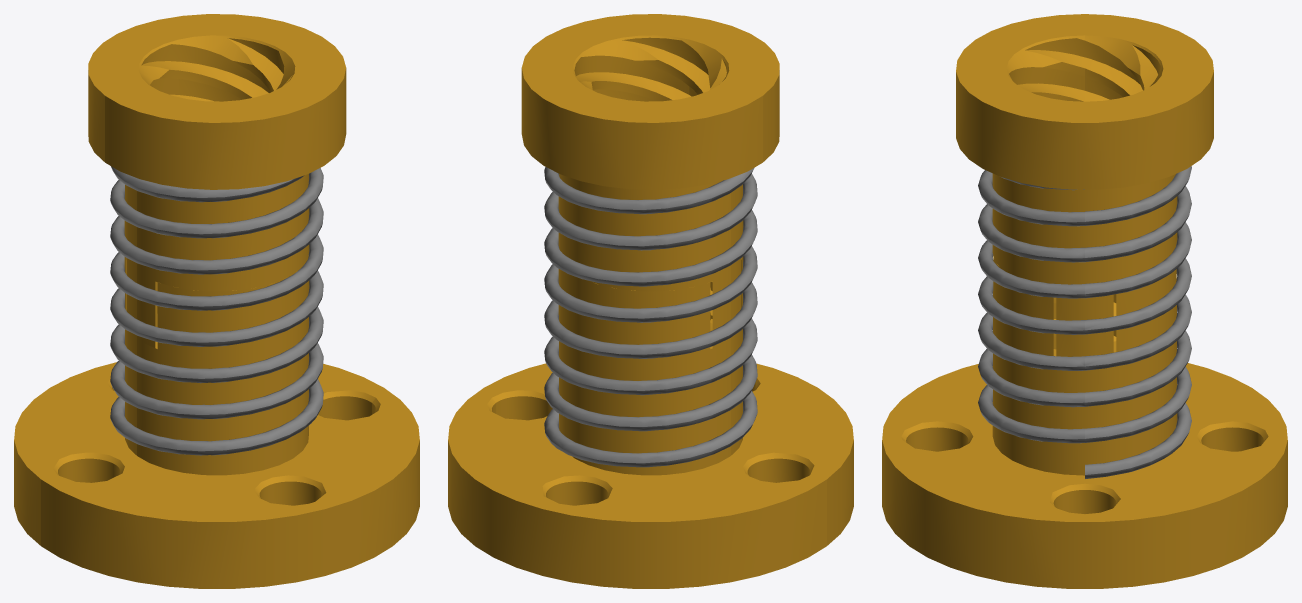
File: fc-t8-antibacklash.glb
3 renders of one model, left to right at view 1: azimuth 30°, elevation 25°; view 2: azimuth 150°, elevation 25°; view 3: azimuth 270°, elevation 25°, orthographic.
Visible parts, largest first — view 1: 0.5833333333333334_0.25_0_0, 0.25_0.25_0.25_0; view 2: 0.5833333333333334_0.25_0_0, 0.25_0.25_0.25_0; view 3: 0.5833333333333334_0.25_0_0, 0.25_0.25_0.25_0.
Boxes of the visible parts, x1=… form: 0.5833333333333334_0.25_0_0: x1=14, y1=14, x2=419, y2=588; 0.25_0.25_0.25_0: x1=110, y1=166, x2=323, y2=455; 0.5833333333333334_0.25_0_0: x1=448, y1=14, x2=853, y2=588; 0.25_0.25_0.25_0: x1=544, y1=167, x2=757, y2=467; 0.5833333333333334_0.25_0_0: x1=882, y1=14, x2=1287, y2=588; 0.25_0.25_0.25_0: x1=978, y1=166, x2=1191, y2=478.
Size of the model in its own units: 2.2 by 2.6 by 2.2.
